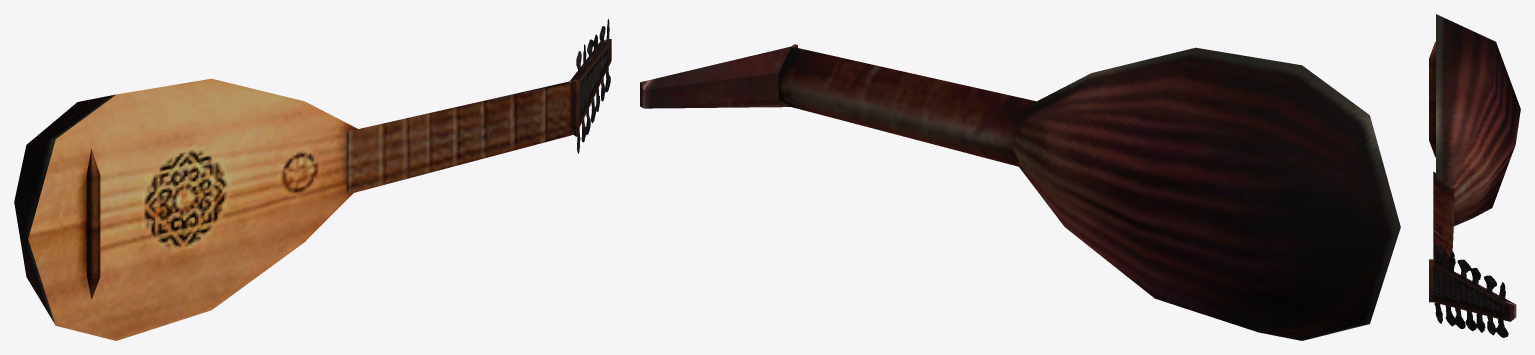
3 views of the same model, side by side, from view 1: azimuth 30°, elevation 25°; view 2: azimuth 150°, elevation 25°; view 3: azimuth 270°, elevation 25° (orthographic). The views are drawn at different scales.
Visible parts, largest first — view 1: it10603; view 2: it10603; view 3: it10603.
Part boxes in pixels (x1,y1,x2,y2): it10603: (14,19,611,340); it10603: (640,44,1400,340); it10603: (1429,14,1520,337).
Bounding box in the file's own units: 2.72 × 1.02 × 0.4446.
Materials: 2 (2 with a texture image).
